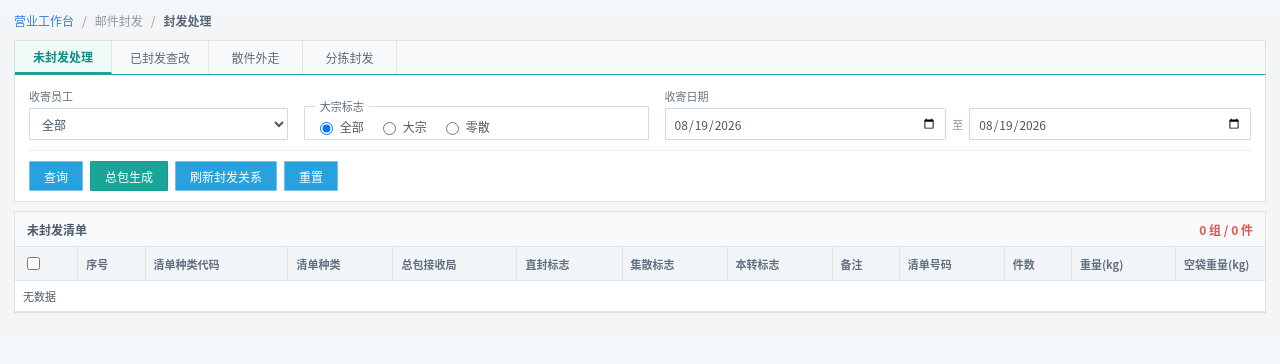
Test: MailSealingWorkspace › keeps the native query on the real business day instead of retained fixture time
Check: the date field named "未封发收寄开始日期" holds "2026-08-19", box [665, 108, 946, 140]
Check: the date field named "未封发收寄结束日期" holds "2026-08-19", box [969, 108, 1251, 140]
Click the button "散件外走".
click(256, 58)  # box [209, 41, 303, 74]
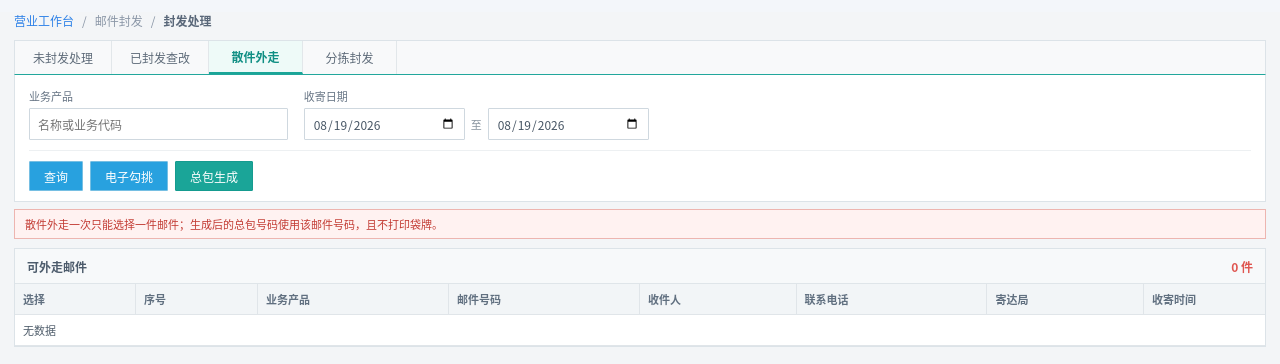
Check: the date field named "散件外走收寄开始日期" holds "2026-08-19", box [304, 108, 465, 140]
Check: the date field named "散件外走收寄结束日期" holds "2026-08-19", box [488, 108, 649, 140]
